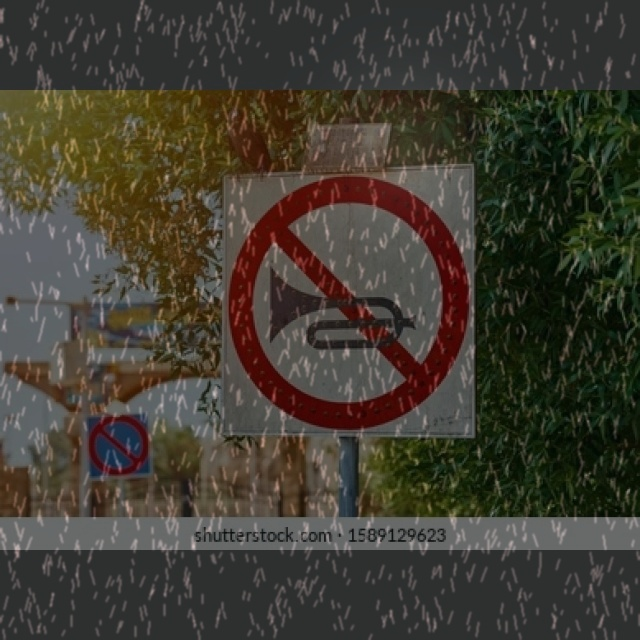Horn_Prohibited: (226, 173, 469, 431)
